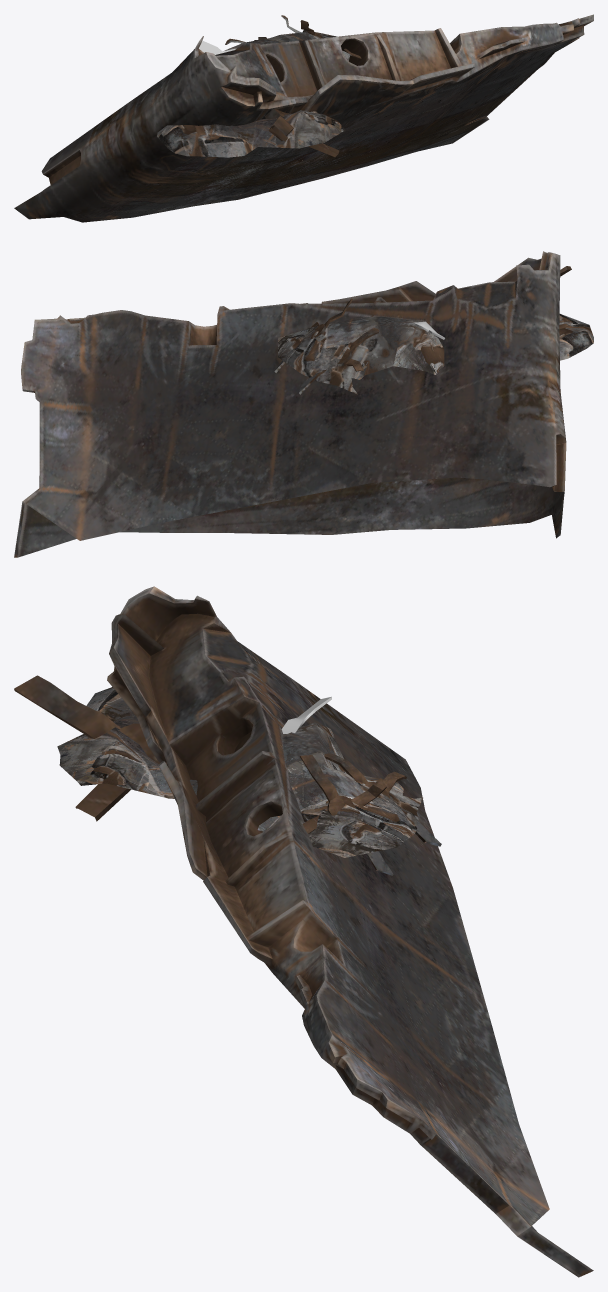
Rendered from plane_wreckage_debris_03.dae.
The picture shows the model from 3 angles, top to bottom: view 1: azimuth 30°, elevation 25°; view 2: azimuth 150°, elevation 25°; view 3: azimuth 270°, elevation 25°; orthographic projection. The views are drawn at different scales.
Parts seen in each view (by area): view 1: pasted__plane_wreckage_wing2, polySurface47, pasted__polySurface50, pasted__polySurface45; view 2: pasted__plane_wreckage_wing2, polySurface47, pasted__polySurface49; view 3: pasted__plane_wreckage_wing2, polySurface47, pasted__polySurface50, pasted__polySurface45, pasted__polySurface49.
Part boxes in pixels (<box>): pasted__plane_wreckage_wing2: <box>14,14,593,222</box>; polySurface47: <box>157,32,350,157</box>; pasted__polySurface50: <box>264,108,339,156</box>; pasted__polySurface45: <box>281,15,361,58</box>; pasted__plane_wreckage_wing2: <box>14,251,566,557</box>; polySurface47: <box>278,314,593,394</box>; pasted__polySurface49: <box>299,328,379,394</box>; pasted__plane_wreckage_wing2: <box>107,586,593,1277</box>; polySurface47: <box>57,687,422,857</box>; pasted__polySurface50: <box>14,675,166,821</box>; pasted__polySurface45: <box>299,755,393,875</box>; pasted__polySurface49: <box>324,753,441,846</box>.
Size of the model in its own units: 456 by 233 by 292.
